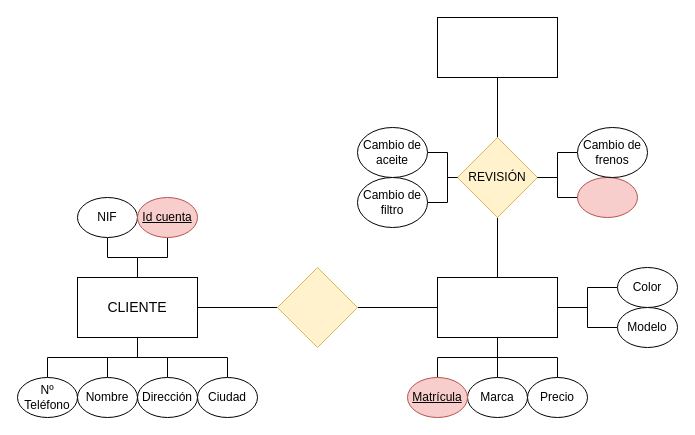
The diagram is 695 pixels wide and 435 high, and some of its shapes have lost their labels. The shapes that lost their labels are listed below. From the top down, each one's centre as x and y in pixels, then its label:
point (497, 47): CONCESIONARIO
point (607, 197): Código
point (317, 307): COMPRA
point (497, 307): COCHE
